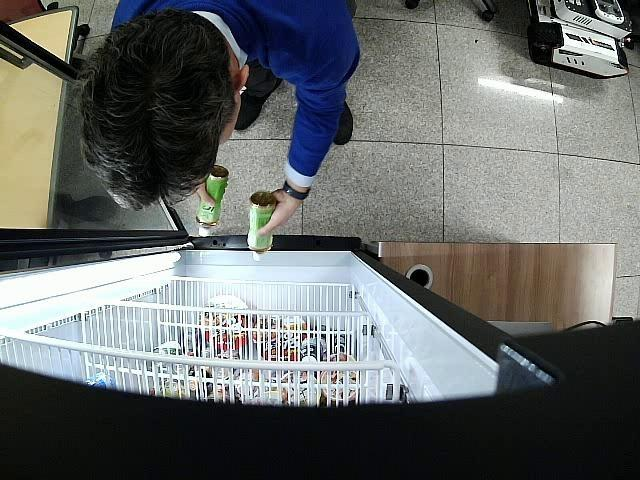19_17cha: (196, 165, 228, 237), (249, 192, 273, 261)
